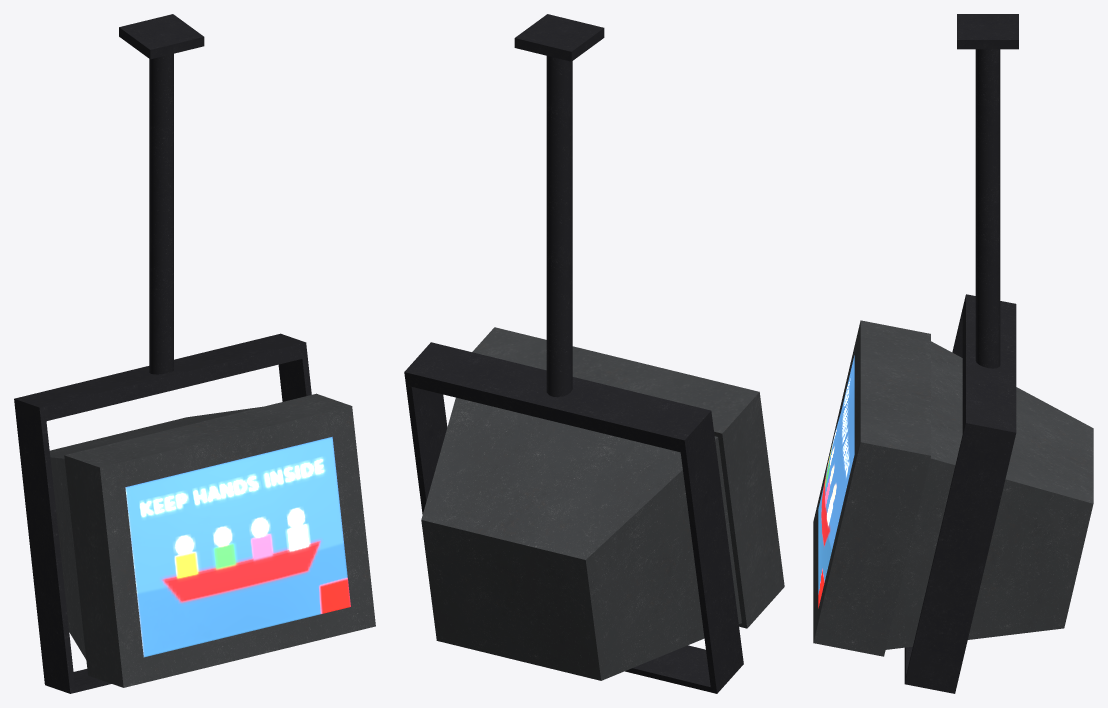
The model's file is SM_QUE_TV_Hung_SafetyVideo.fbx.
3 renders of one model, left to right at view 1: azimuth 30°, elevation 25°; view 2: azimuth 150°, elevation 25°; view 3: azimuth 270°, elevation 25°, orthographic. The views are drawn at different scales.
Parts seen in each view (by area): view 1: SM_QUE_TV_Hung_SafetyVideo; view 2: SM_QUE_TV_Hung_SafetyVideo; view 3: SM_QUE_TV_Hung_SafetyVideo.
Boxes of the visible parts, x1,y1,x2,y2 form: SM_QUE_TV_Hung_SafetyVideo: (14, 14, 375, 693); SM_QUE_TV_Hung_SafetyVideo: (404, 14, 784, 693); SM_QUE_TV_Hung_SafetyVideo: (813, 14, 1093, 693).
Bounding box in the file's own units: 0.592 × 1.29 × 0.5436.
